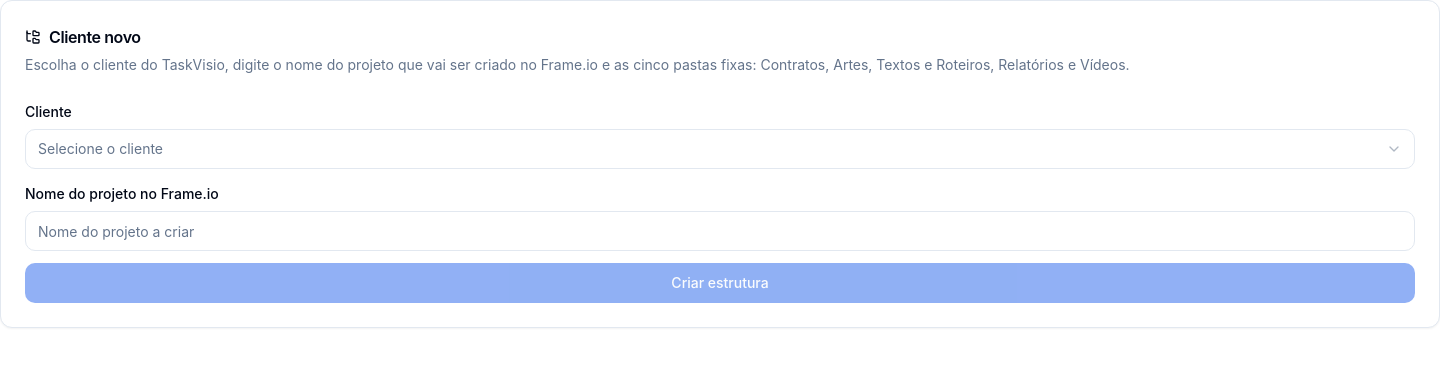
it: ClientStructureForm — prévia de correspondência › avisa quando o projeto será criado
Press the mouse on the dropdown labelled "cliente": (101, 148) left=25, top=129, right=1415, bottom=169
Click the dropdown labelled "cliente": (101, 148) left=25, top=129, right=1415, bottom=169
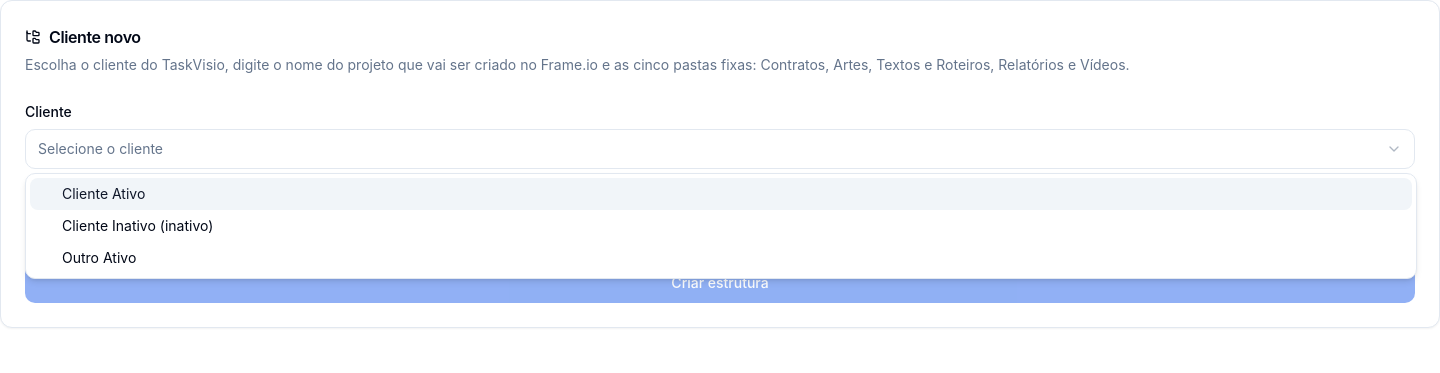
Click the option "Cliente Ativo": (104, 194) left=30, top=178, right=1412, bottom=210
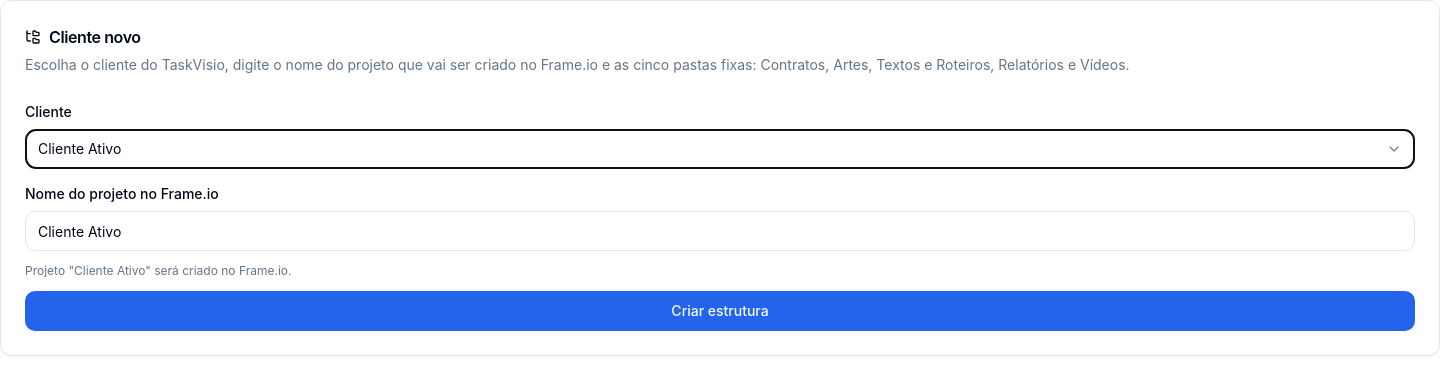
Expected: the text with test id "frameio-preview" shows "será criado no Frame.io", left=25, top=263, right=292, bottom=278
